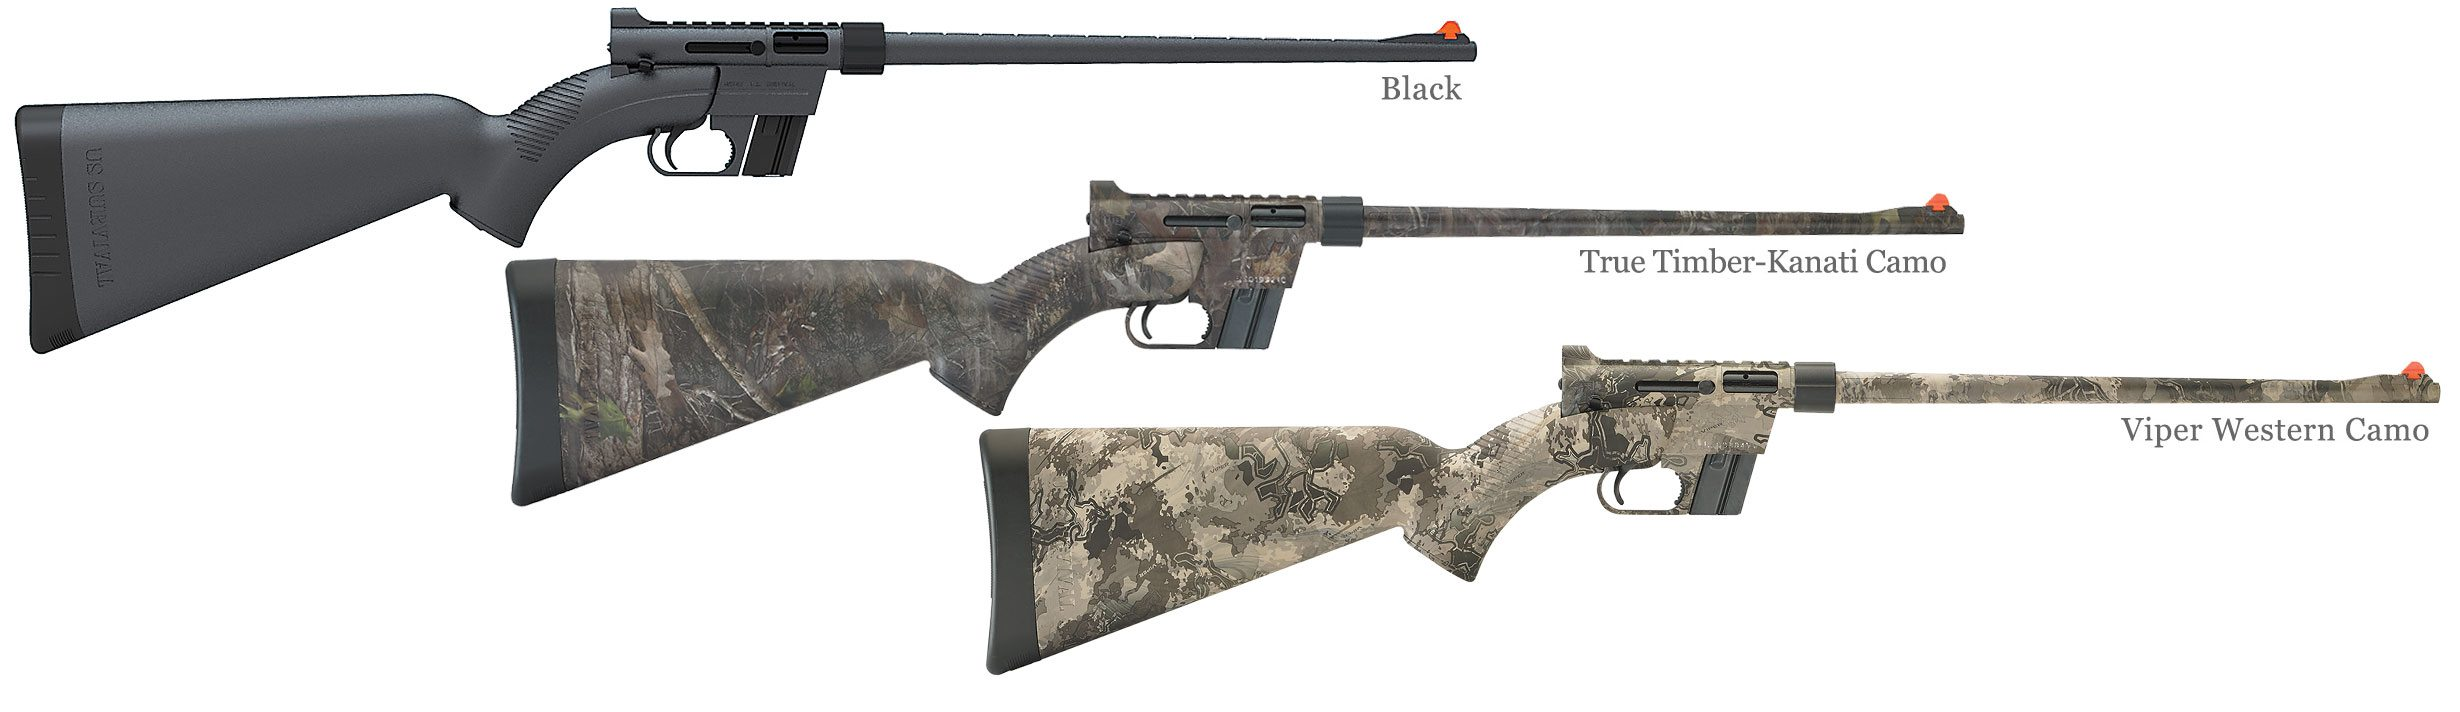Gun: (1497, 304, 2200, 618), (516, 42, 1465, 216), (1012, 188, 1683, 416)
